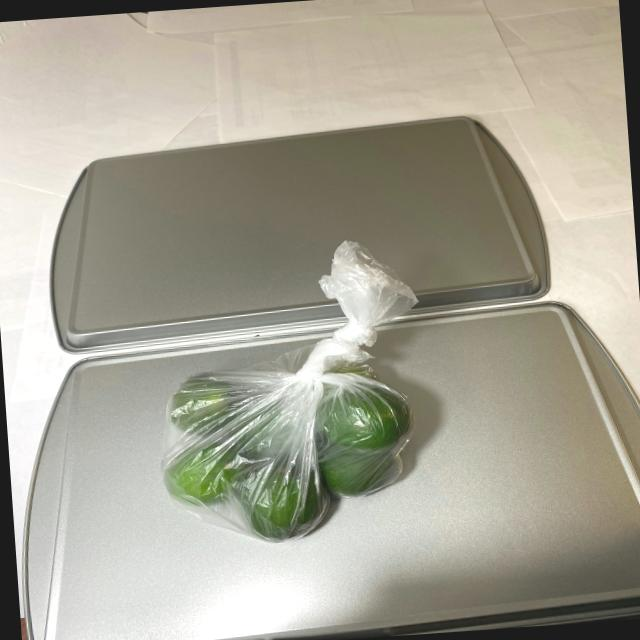lemon: (156, 350, 428, 548)
